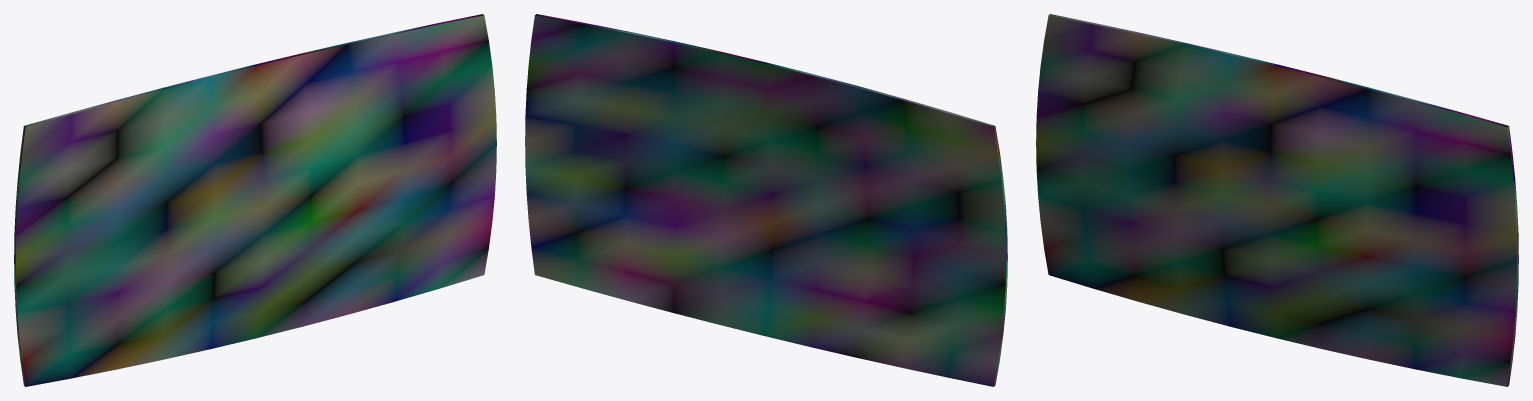
The model's file is ASE_ForceField_Collision.gltf.
3 views of the same model, side by side, from view 1: azimuth 30°, elevation 25°; view 2: azimuth 150°, elevation 25°; view 3: azimuth 330°, elevation 25° (orthographic).
Visible parts, largest first — view 1: ASE_ForceField_Collision; view 2: ASE_ForceField_Collision; view 3: ASE_ForceField_Collision.
Part boxes in pixels (<box>): ASE_ForceField_Collision: <box>14,14,496,386</box>; ASE_ForceField_Collision: <box>525,14,1007,386</box>; ASE_ForceField_Collision: <box>1036,14,1518,386</box>.
Bounding box in the file's own units: 5.01 × 2.71 × 0.1911.
